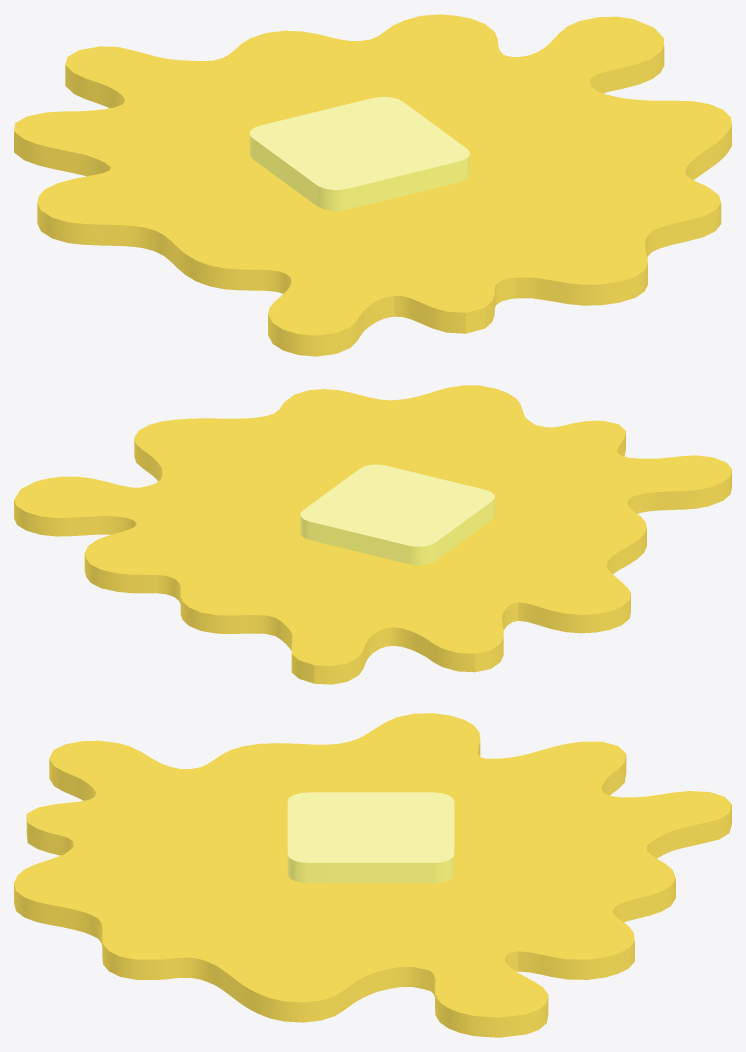
The model's file is Melted_Butter_Butter_0.glb.
3 renders of one model, top to bottom at view 1: azimuth 30°, elevation 25°; view 2: azimuth 150°, elevation 25°; view 3: azimuth 270°, elevation 25°, orthographic. The views are drawn at different scales.
Visible parts, largest first — view 1: Melted_Butter_Butter_0; view 2: Melted_Butter_Butter_0; view 3: Melted_Butter_Butter_0.
Boxes of the visible parts, x1,y1,x2,y2 form: Melted_Butter_Butter_0: (14,14,731,356); Melted_Butter_Butter_0: (14,385,731,684); Melted_Butter_Butter_0: (14,713,731,1037).
Size of the model in its own units: 0.1618 by 0.01 by 0.1612.
1 material, 1 textured.
